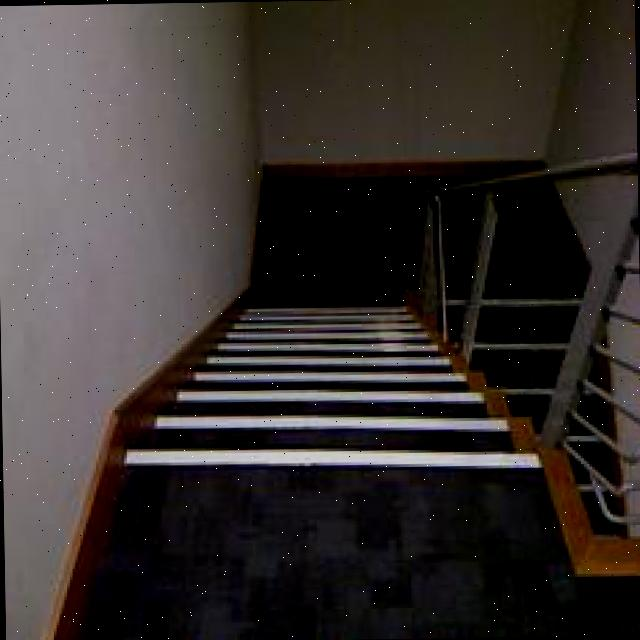stairs: (77, 188, 631, 626)
